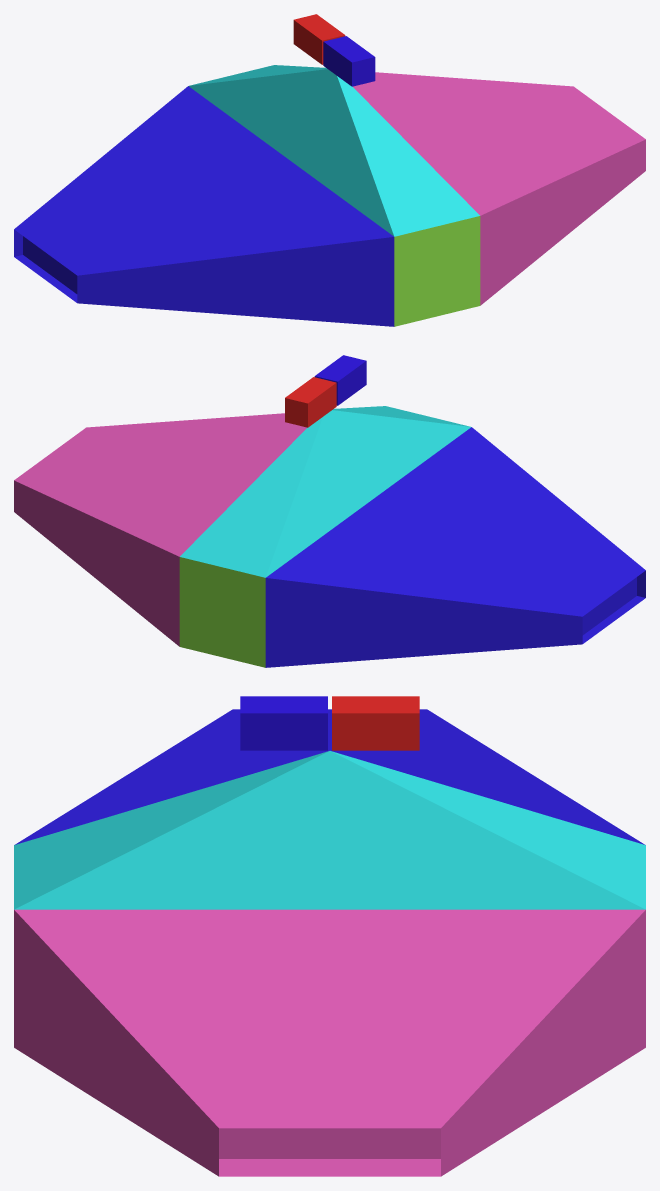
The model's file is policeShip.fbx.
3 renders of one model, top to bottom at view 1: azimuth 30°, elevation 25°; view 2: azimuth 150°, elevation 25°; view 3: azimuth 270°, elevation 25°, orthographic. The views are drawn at different scales.
Parts seen in each view (by area): view 1: Cube, Cube.002, Cube.001; view 2: Cube, Cube.001, Cube.002; view 3: Cube, Cube.001, Cube.002.
Boxes of the visible parts, x1,y1,x2,y2 form: Cube: (14, 65, 645, 326); Cube.002: (323, 36, 375, 86); Cube.001: (293, 14, 345, 64); Cube: (14, 406, 645, 667); Cube.001: (285, 377, 336, 427); Cube.002: (314, 355, 366, 405); Cube: (14, 709, 645, 1176); Cube.001: (332, 696, 419, 750); Cube.002: (240, 696, 327, 750).
Size of the model in its own units: 1312 by 450 by 830.
